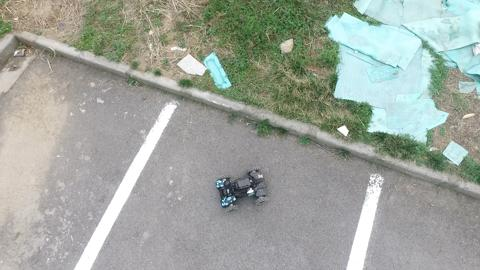chariot: (209, 164, 276, 216)
